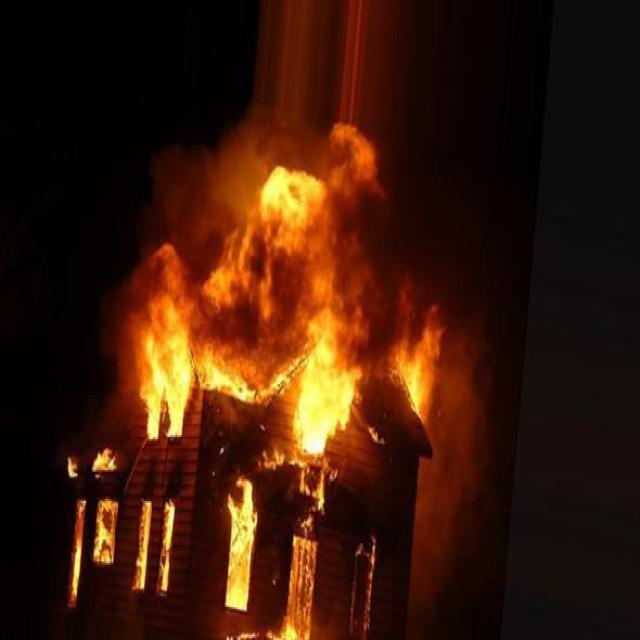fire: (122, 103, 430, 622), (59, 443, 123, 603)
